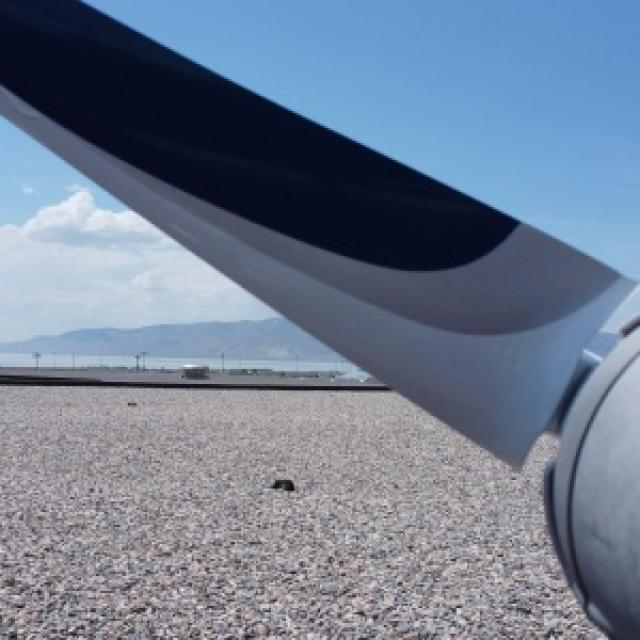healthy: (0, 0, 638, 638)
